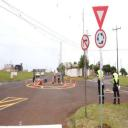NoVirarDireita: (81, 34, 90, 52)
Rotatoria: (94, 29, 107, 49)
preferencia: (92, 4, 109, 30)
